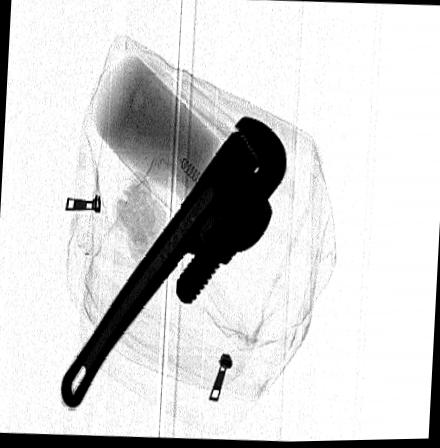Wrench: (59, 117, 287, 413)
